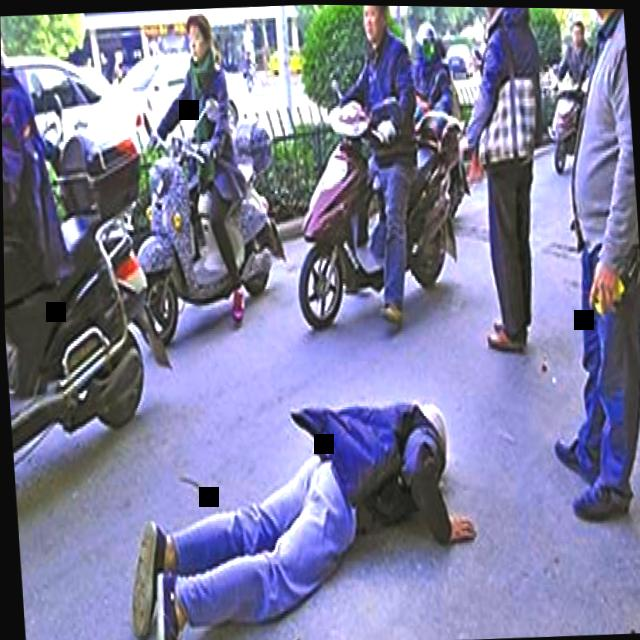Fall-Detected: (111, 365, 496, 640)
